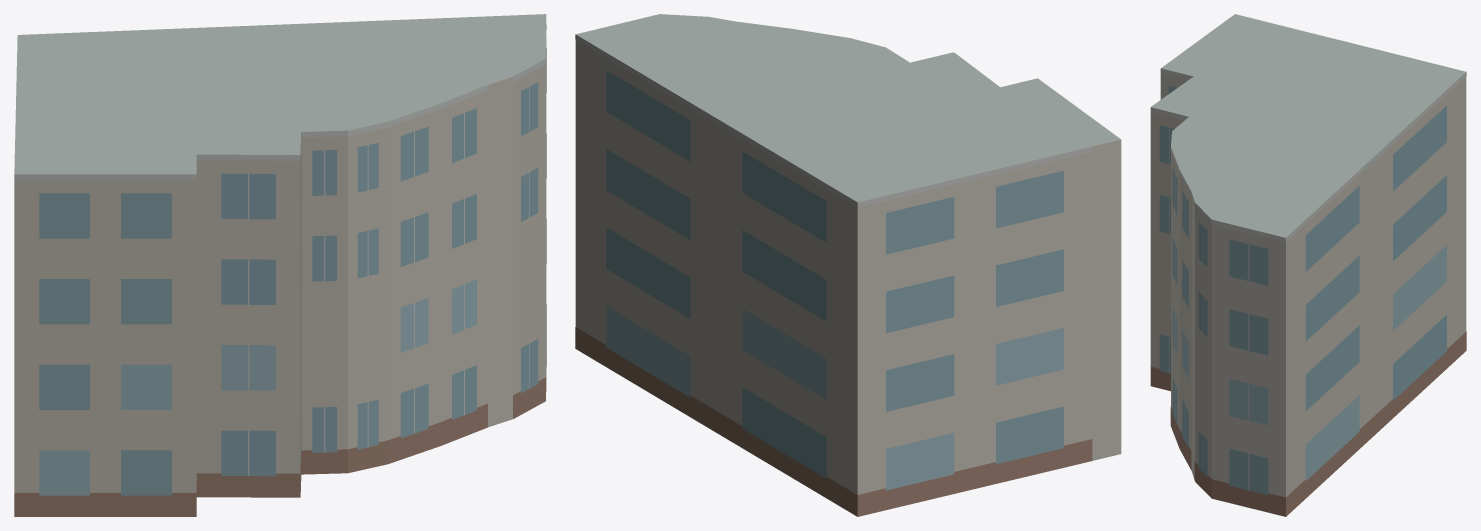
File: survey-upis-32986020.glb
3 views of the same model, side by side, from view 1: azimuth 30°, elevation 25°; view 2: azimuth 150°, elevation 25°; view 3: azimuth 270°, elevation 25° (orthographic). The views are drawn at different scales.
Parts seen in each view (by area): view 1: survey-upis-32986020.tmp; view 2: survey-upis-32986020.tmp; view 3: survey-upis-32986020.tmp.
Boxes of the visible parts, x1=… form: survey-upis-32986020.tmp: x1=14, y1=14, x2=546, y2=516; survey-upis-32986020.tmp: x1=575, y1=14, x2=1121, y2=516; survey-upis-32986020.tmp: x1=1150, y1=14, x2=1466, y2=516.
Bounding box in the file's own units: 24.62 × 14.3 × 14.68.
